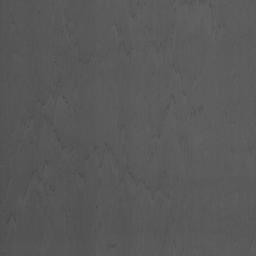Silk spot: (119, 40, 134, 56), (126, 164, 136, 182), (56, 134, 67, 150), (181, 0, 205, 7), (191, 106, 203, 117), (6, 212, 16, 224)
